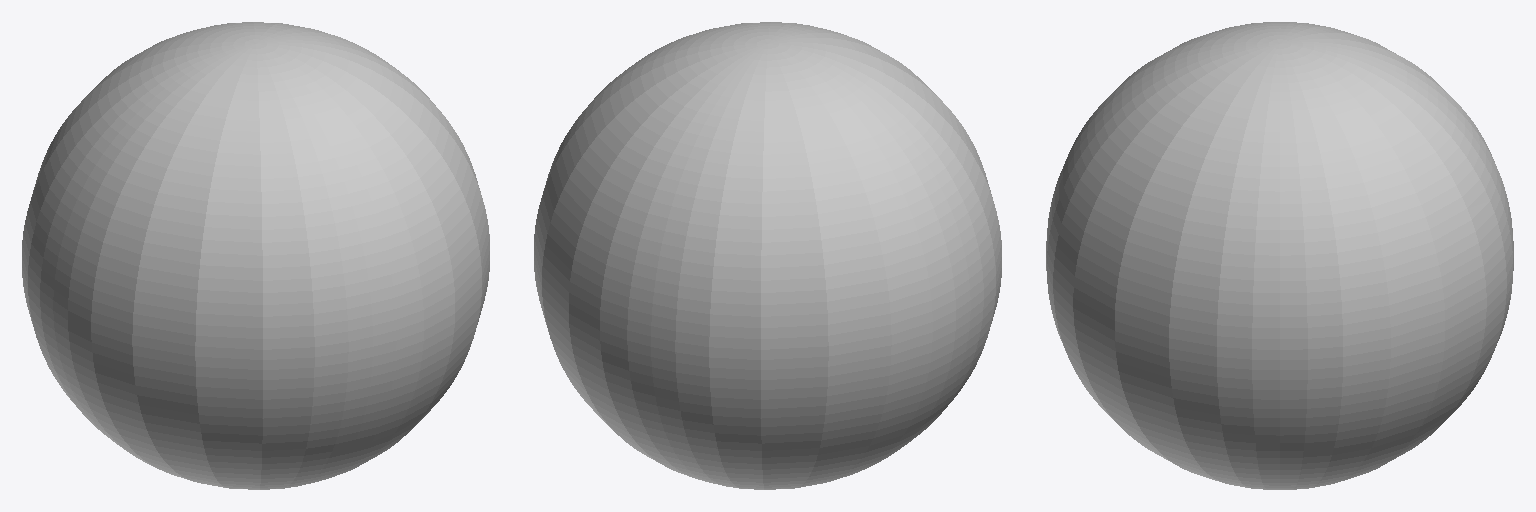
3 renders of one model, left to right at view 1: azimuth 30°, elevation 25°; view 2: azimuth 150°, elevation 25°; view 3: azimuth 270°, elevation 25°, orthographic.
Parts seen in each view (by area): view 1: SurfSphere; view 2: SurfSphere; view 3: SurfSphere.
Part boxes in pixels (x1,y1,x2,y2): SurfSphere: (22,22,489,489); SurfSphere: (534,22,1001,489); SurfSphere: (1046,22,1513,489).
Bounding box in the file's own units: 2 × 2 × 2.